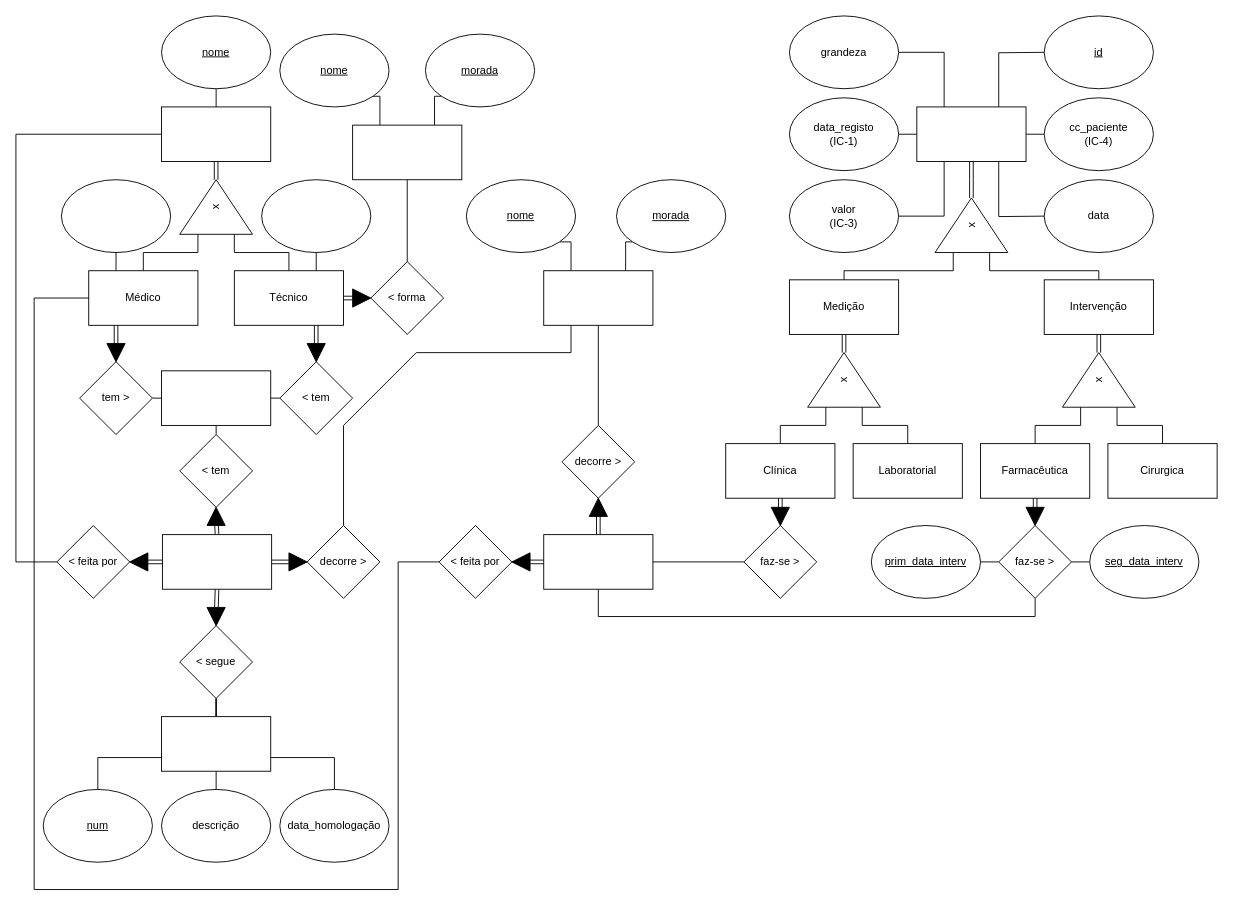
Some shapes in this 1233 by 906 pixel diagram are drawn without their labels. The centre of each missing label's shape, as x and y in pixels:
"Análise (IC-2)" belongs at pixel 217 561.
"cedula_profissional" belongs at pixel 116 216.
"Consulta" belongs at pixel 598 561.
"Escola" belongs at pixel 407 152.
"Especialidade" belongs at pixel 216 397.
"num_diploma" belongs at pixel 316 216.
"Observação" belongs at pixel 971 134.
"Profissional de Saúde" belongs at pixel 216 134.
"Protocolo" belongs at pixel 216 743.
"Unidade de Saúde" belongs at pixel 598 297.
